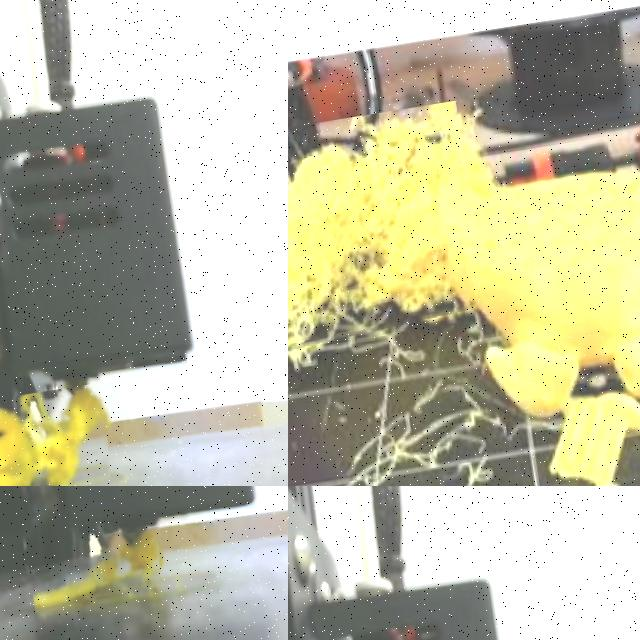spaghetti: (288, 100, 493, 362), (0, 382, 122, 486), (34, 530, 161, 611)
